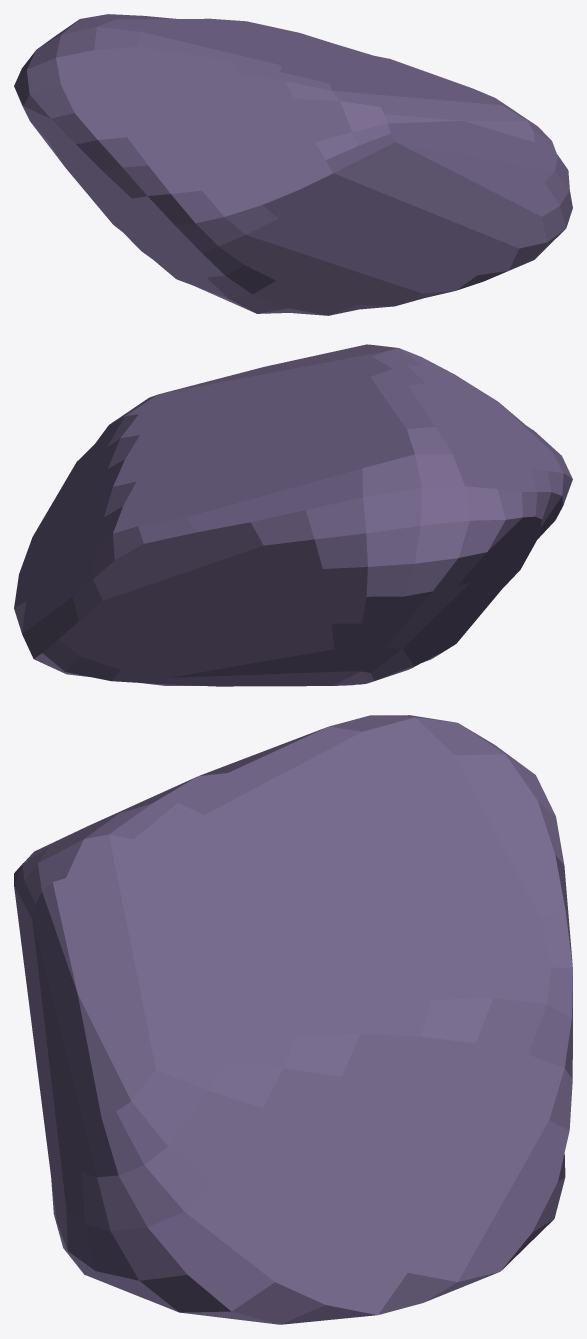
Rendered from rock 2.fbx.
3 renders of one model, top to bottom at view 1: azimuth 30°, elevation 25°; view 2: azimuth 150°, elevation 25°; view 3: azimuth 270°, elevation 25°, orthographic. The views are drawn at different scales.
Parts seen in each view (by area): view 1: Sphere.005; view 2: Sphere.005; view 3: Sphere.005.
Boxes of the visible parts, x1,y1,x2,y2 form: Sphere.005: (14,14,572,315); Sphere.005: (14,344,572,686); Sphere.005: (14,715,572,1324).
Size of the model in its own units: 4.63 by 2.28 by 3.3.
